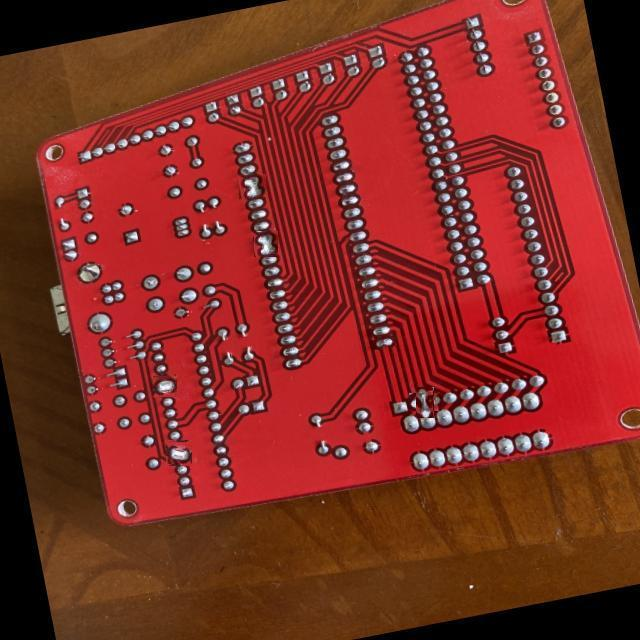damged: (238, 173, 266, 200), (413, 390, 438, 415), (254, 231, 278, 257), (167, 441, 192, 465), (154, 374, 177, 398)
